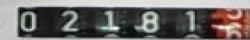digits: (212, 8, 250, 38), (174, 8, 203, 35), (94, 10, 121, 33), (133, 9, 160, 32), (59, 9, 78, 32), (20, 10, 36, 30)
